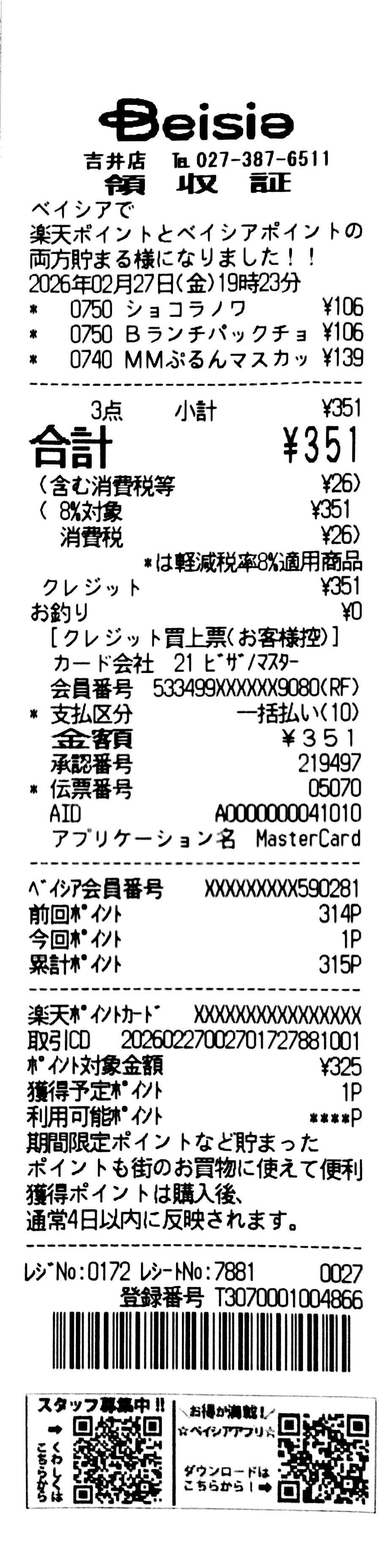Date: (28, 273, 174, 295)
Pay: (27, 424, 357, 469)
Shopname: (99, 98, 295, 142)
Telnum: (197, 149, 329, 169)
